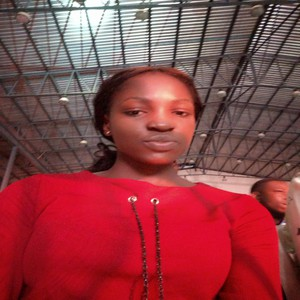Fulokoja_female_student: (100, 64, 220, 297)
